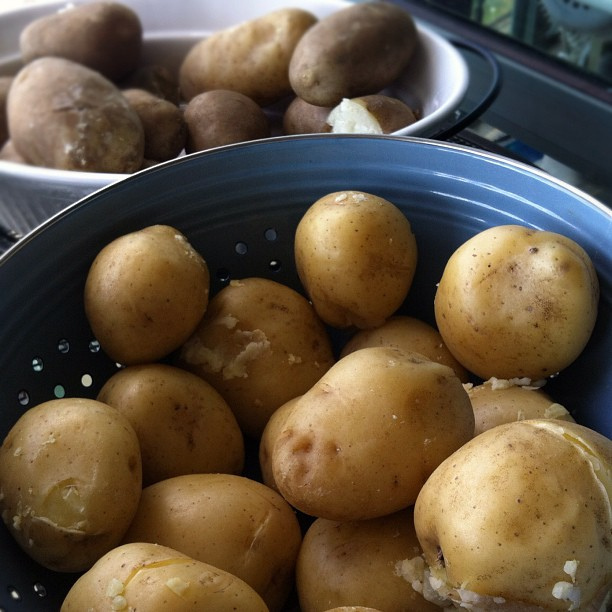boiled potatoes: (414, 417, 612, 600), (268, 364, 475, 513), (1, 395, 147, 545), (131, 457, 296, 583), (191, 282, 356, 406), (437, 225, 590, 358), (79, 219, 204, 369), (109, 351, 251, 480), (48, 542, 253, 612), (298, 203, 416, 307)
